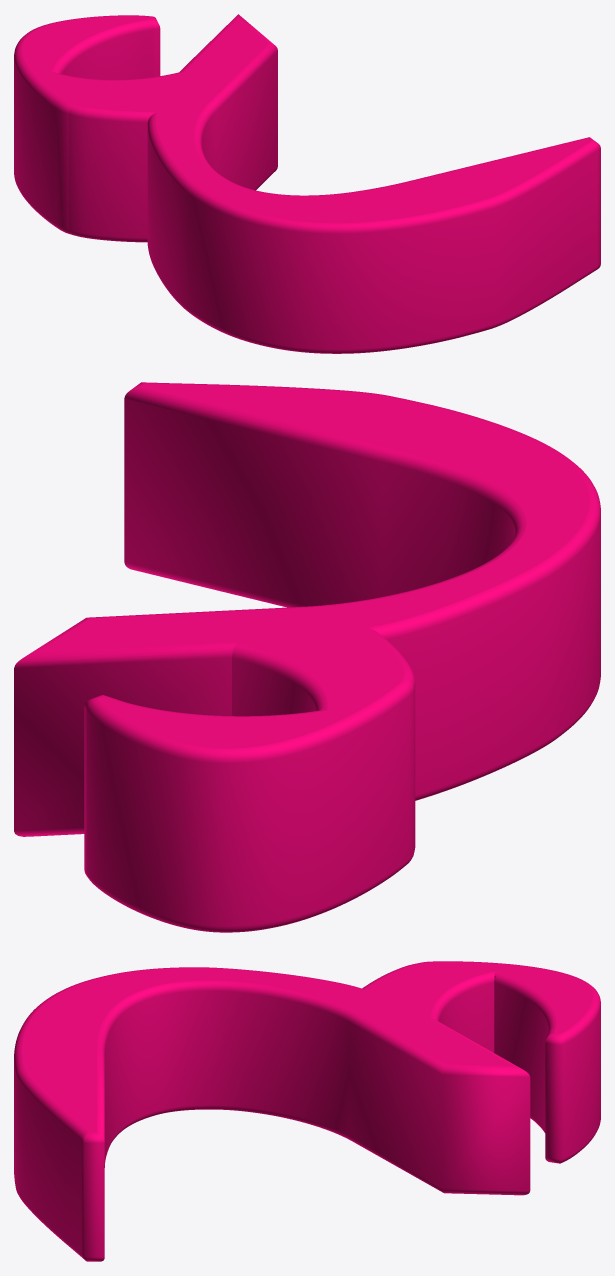
File: 18 ain.fbx
The picture shows the model from 3 angles, top to bottom: view 1: azimuth 30°, elevation 25°; view 2: azimuth 150°, elevation 25°; view 3: azimuth 270°, elevation 25°; orthographic projection. The views are drawn at different scales.
Parts seen in each view (by area): view 1: Text.109; view 2: Text.109; view 3: Text.109.
Boxes of the visible parts, box(x1,y1,x2,y2) form: Text.109: box(14, 14, 600, 353); Text.109: box(14, 382, 600, 932); Text.109: box(14, 961, 600, 1261).
Bounding box in the file's own units: 53.38 × 18 × 74.65.
